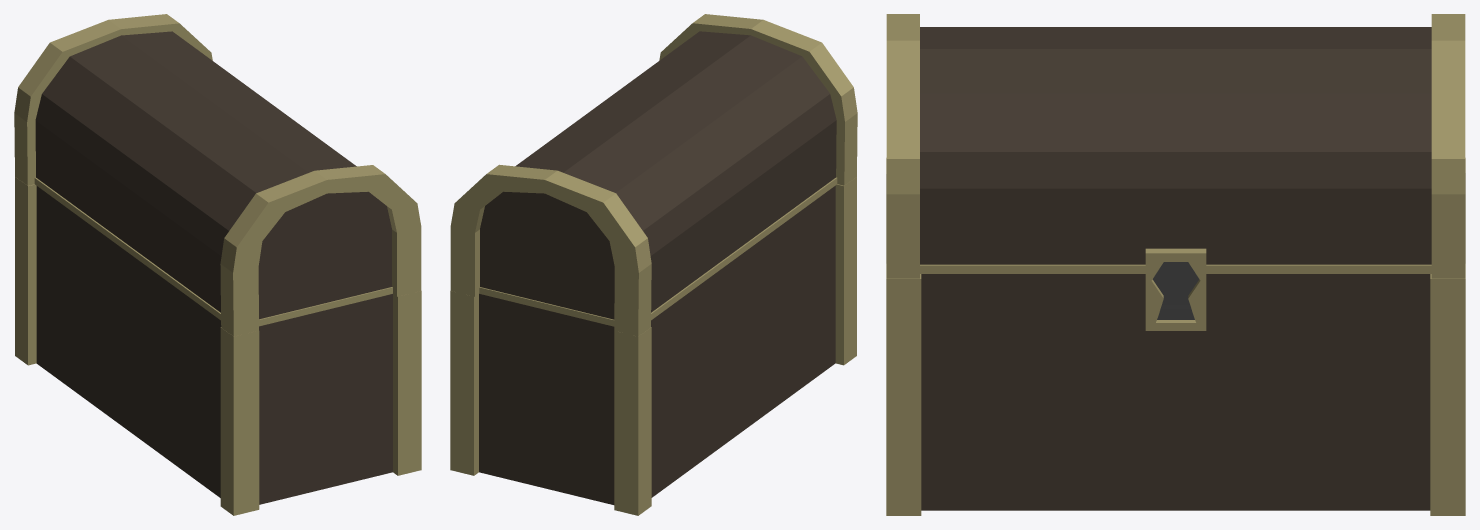
Rendered from Owens_Chest(closed).fbx.
The picture shows the model from 3 angles, left to right: view 1: azimuth 30°, elevation 25°; view 2: azimuth 150°, elevation 25°; view 3: azimuth 270°, elevation 25°; orthographic projection. The views are drawn at different scales.
Parts seen in each view (by area): view 1: Chest_Top, Chest_Bottom; view 2: Chest_Top, Chest_Bottom; view 3: Chest_Top, Chest_Bottom, Chest_Lock.
Boxes of the visible parts, x1=… form: Chest_Top: x1=14, y1=14, x2=421, y2=336; Chest_Bottom: x1=15, y1=177, x2=421, y2=515; Chest_Top: x1=450, y1=14, x2=857, y2=336; Chest_Bottom: x1=450, y1=177, x2=856, y2=515; Chest_Top: x1=886, y1=14, x2=1465, y2=278; Chest_Bottom: x1=886, y1=158, x2=1465, y2=515; Chest_Lock: x1=1145, y1=248, x2=1206, y2=330.
Size of the model in its own units: 2.27 by 3.6 by 4.56.
